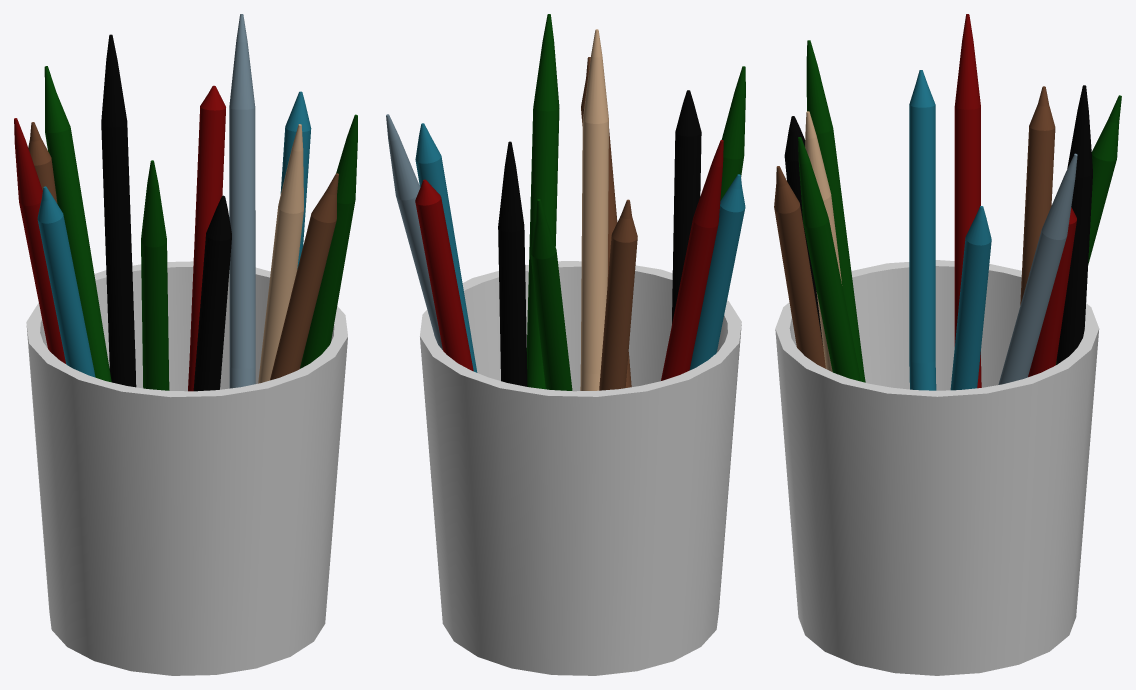
Rendered from PotCrayon_2.fbx.
3 views of the same model, side by side, from view 1: azimuth 30°, elevation 25°; view 2: azimuth 150°, elevation 25°; view 3: azimuth 270°, elevation 25° (orthographic).
Visible parts, largest first — view 1: pPipe106, pCylinder207, pCylinder205, pCylinder230, pCylinder229, pCylinder227, pCylinder232, pCylinder214, pCylinder203, pCylinder231, pCylinder197, pCylinder235 (+2 smaller); view 2: pPipe106, pCylinder227, pCylinder197, pCylinder205, pCylinder235, pCylinder214, pCylinder204, pCylinder230, pCylinder231, pCylinder203, pCylinder207, pCylinder240 (+2 smaller); view 3: pPipe106, pCylinder231, pCylinder197, pCylinder235, pCylinder207, pCylinder205, pCylinder232, pCylinder240, pCylinder229, pCylinder204, pCylinder214, pCylinder230 (+2 smaller).
Part boxes in pixels (x1,y1,x2,y2): pPipe106: (26,261,347,675); pCylinder207: (229,14,255,388); pCylinder205: (101,34,136,387); pCylinder230: (44,66,111,382); pCylinder229: (141,160,169,390); pCylinder227: (258,124,303,383); pCylinder232: (270,173,338,380); pCylinder214: (188,85,225,391); pCylinder203: (193,195,231,391); pCylinder231: (37,186,95,377); pCylinder197: (300,114,357,368); pCylinder235: (14,118,65,363); pPipe106: (420,261,741,675); pCylinder227: (580,29,608,390); pCylinder197: (526,14,559,389); pCylinder205: (498,141,527,386); pCylinder235: (661,140,723,380); pCylinder214: (415,179,473,371); pCylinder204: (599,199,637,390); pCylinder230: (530,199,572,390); pCylinder231: (689,174,745,370); pCylinder203: (672,90,701,323); pCylinder207: (386,114,442,349); pCylinder240: (415,123,477,372); pPipe106: (775,260,1099,675); pCylinder231: (909,70,936,390); pCylinder197: (798,137,860,381); pCylinder235: (954,14,981,388); pCylinder207: (998,153,1077,384); pCylinder205: (1056,85,1092,364); pCylinder232: (774,166,825,368); pCylinder240: (950,206,991,390); pCylinder229: (806,40,865,382); pCylinder204: (1020,86,1055,305); pCylinder214: (1028,207,1076,377); pCylinder230: (1056,95,1121,364).
Bounding box in the file's own units: 7.61 × 12.8 × 7.61.
